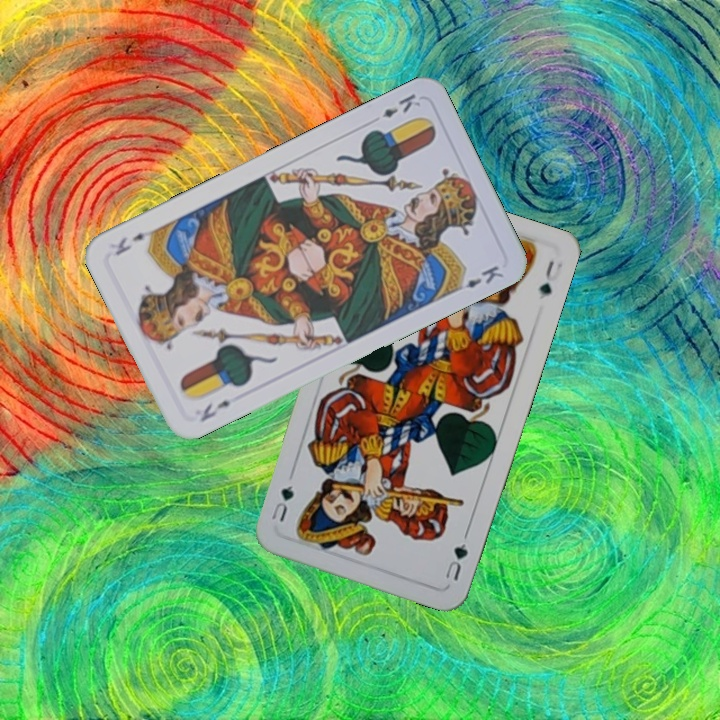EK: (378, 89, 424, 121), (196, 396, 234, 425)
GU: (441, 539, 471, 583)
